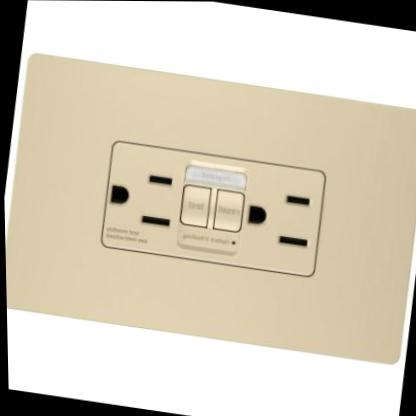OUTLET: (1, 51, 416, 364)
